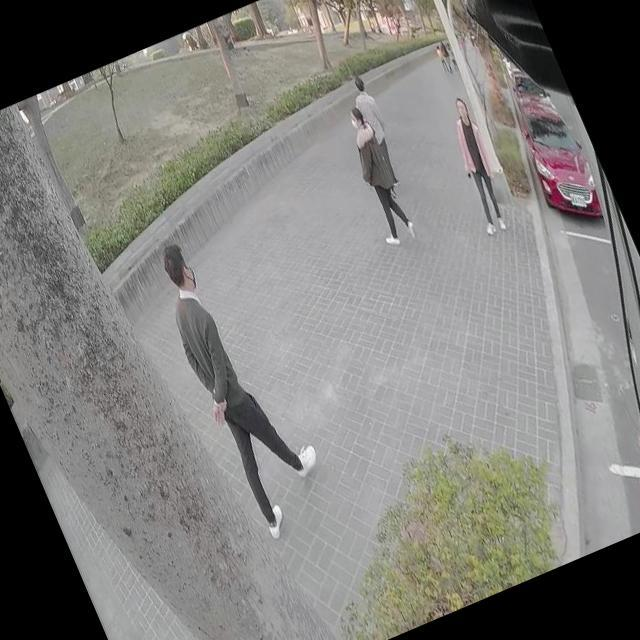person: (142, 227, 322, 537), (331, 101, 418, 250), (433, 92, 520, 235), (343, 70, 409, 188)
